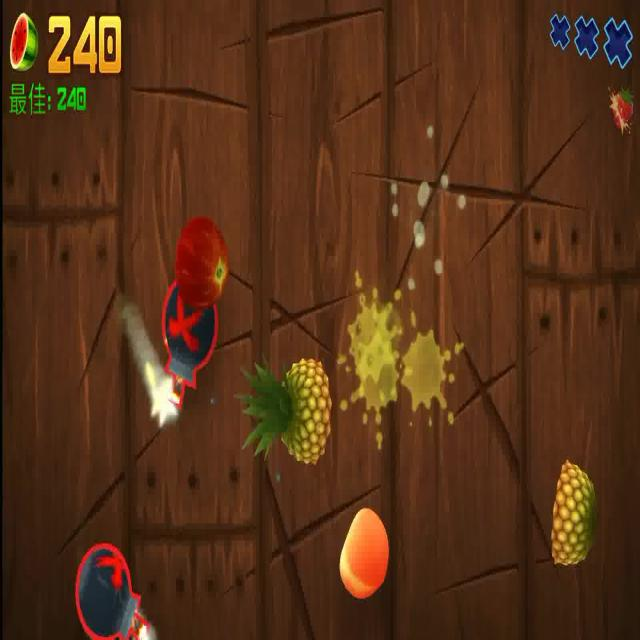bomb: (71, 541, 170, 639), (156, 274, 219, 410)
fruit: (239, 342, 333, 473), (332, 498, 392, 600), (174, 211, 232, 302), (551, 449, 596, 564)
